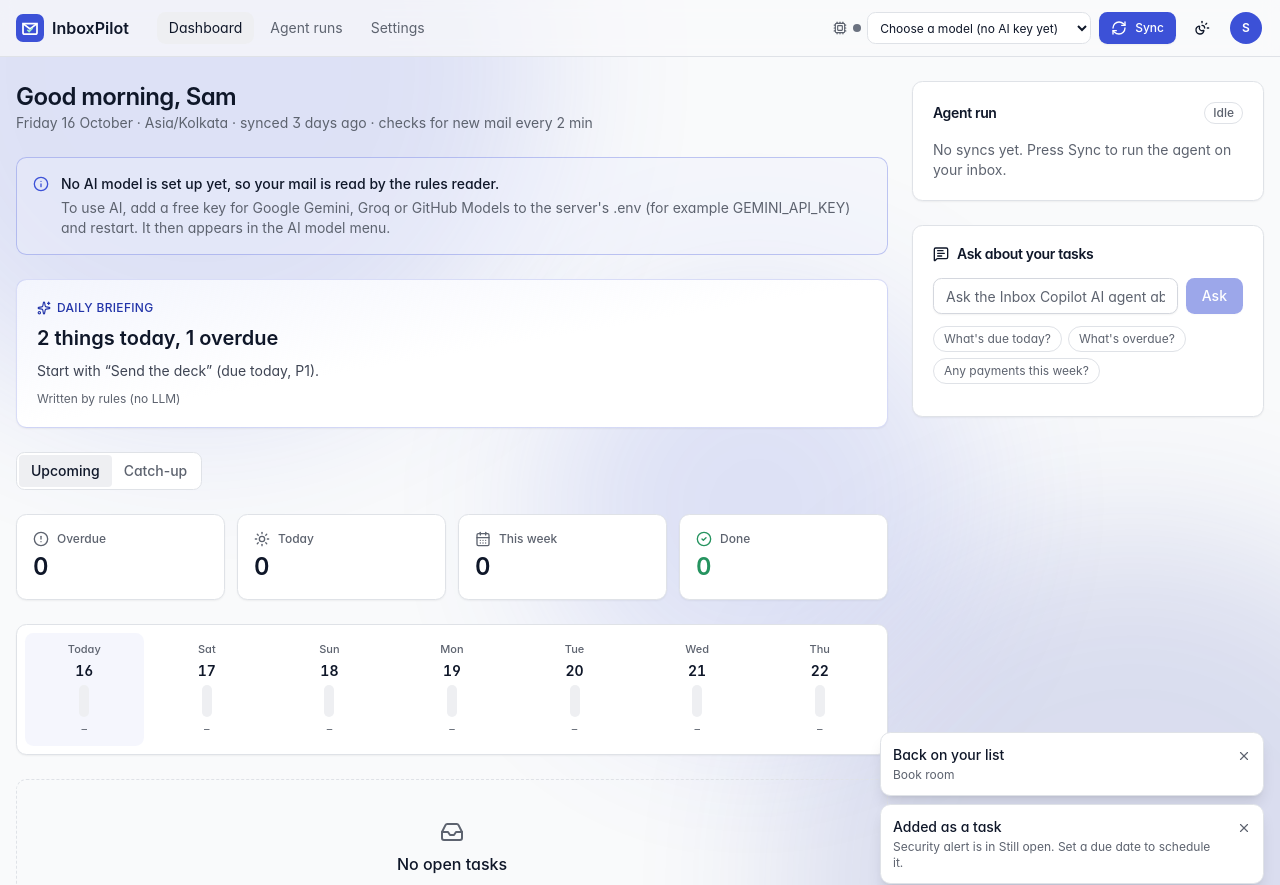
Test case: past 7 days › says so when there is no recent mail
Click the tab "Catch-up" at (155, 471), box top-left (112, 455), bottom-right (199, 487)
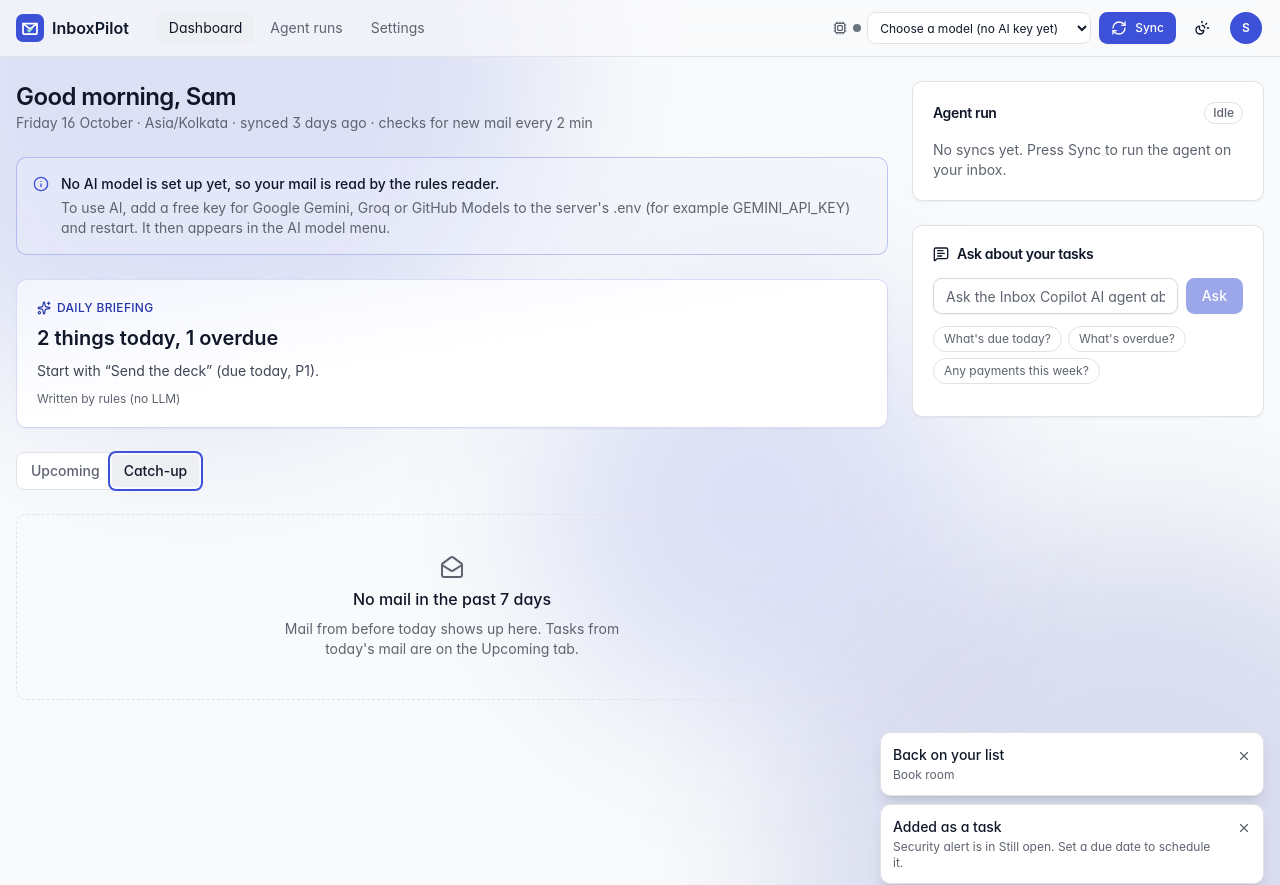
Check: the text "No mail in the past 7 days" is shown, box top-left (353, 587), bottom-right (551, 611)
